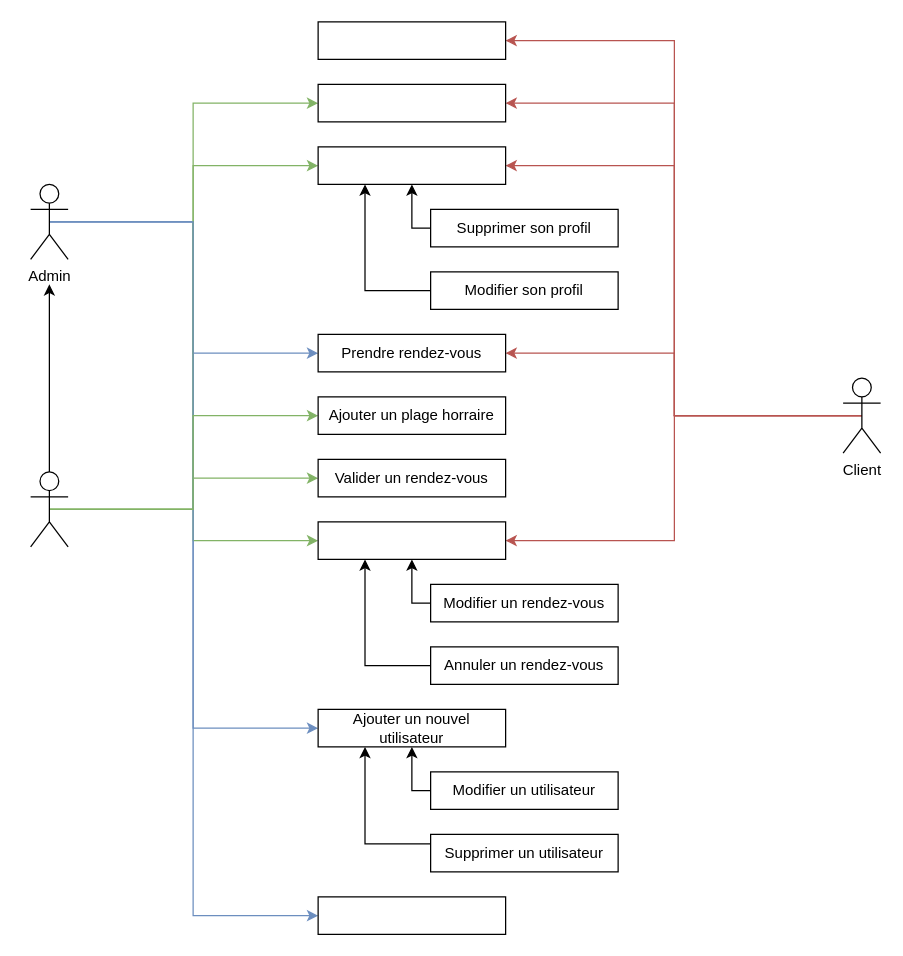
Image size: 903x956. Some labels were removed from this diagram. The centre of each missing label's shape, as x and y in pixels:
"Ajouter une plage horraire pour un médecin" goes at point 411,915.
"Consulter son profil" goes at point 411,165.
"Consulter un rendez-vous" goes at point 411,540.
"Médecin" goes at point 48,509.
"S'enregistrer" goes at point 411,40.
"Se connecter" goes at point 411,102.
